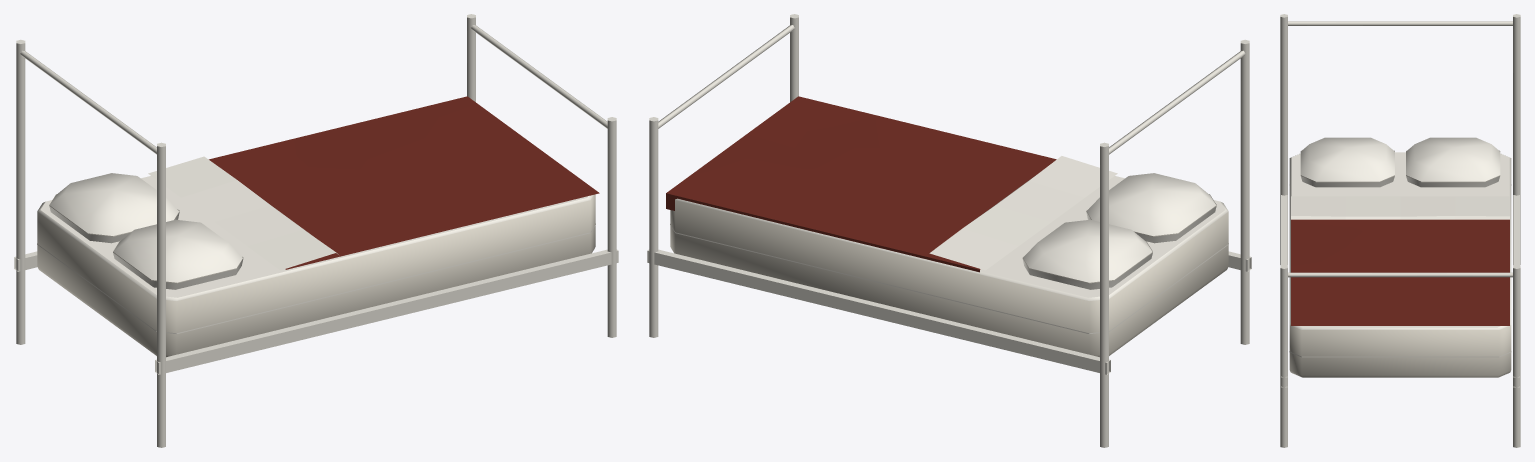
Rendered from parametric-bed-3rd.glb.
The picture shows the model from 3 angles, left to right: view 1: azimuth 30°, elevation 25°; view 2: azimuth 150°, elevation 25°; view 3: azimuth 270°, elevation 25°; orthographic projection. The views are drawn at different scales.
Visible parts, largest first — view 1: parametric-bed-3rd; view 2: parametric-bed-3rd; view 3: parametric-bed-3rd.
Part boxes in pixels (left/top/right/bottom): parametric-bed-3rd: left=14, top=14, right=618, bottom=447; parametric-bed-3rd: left=647, top=14, right=1251, bottom=447; parametric-bed-3rd: left=1280, top=14, right=1520, bottom=447.
Size of the model in its own units: 2 by 1.25 by 1.09.
